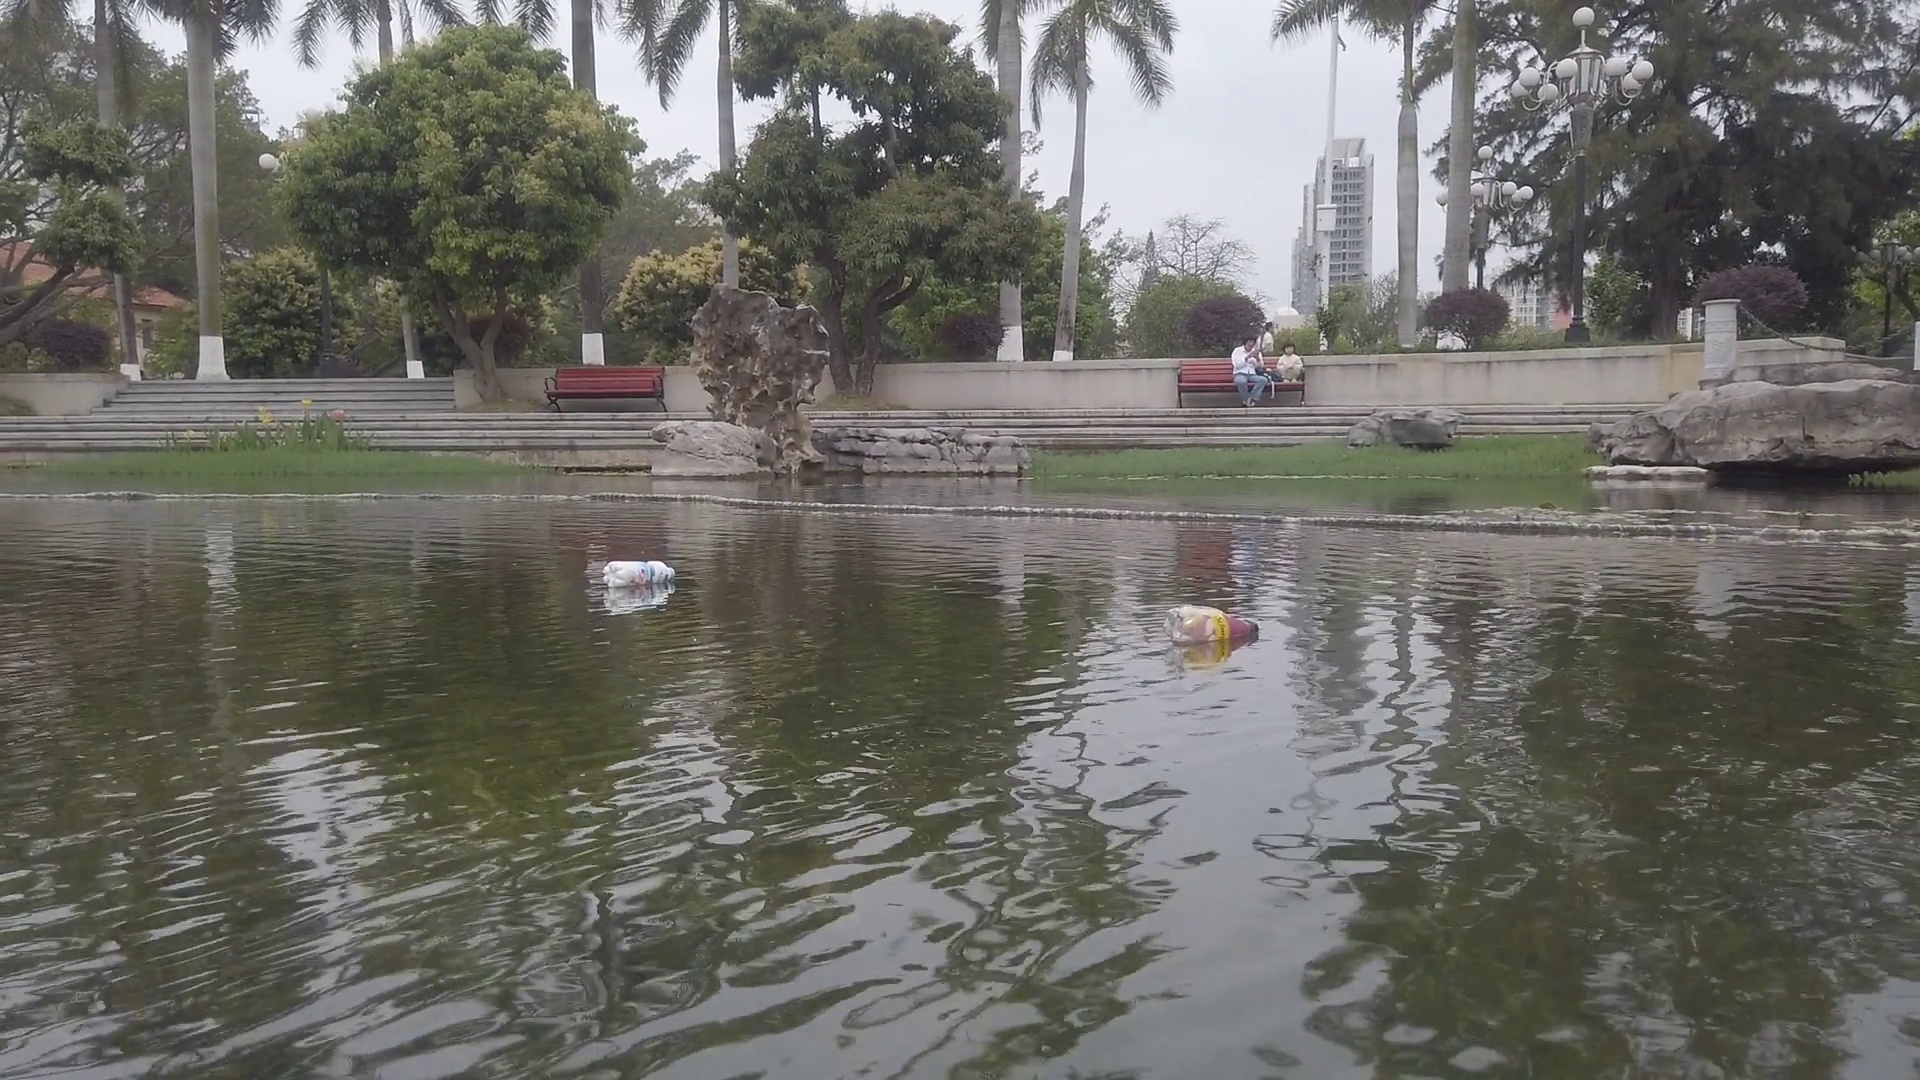bottle: (1164, 603, 1261, 644), (603, 558, 676, 585)
